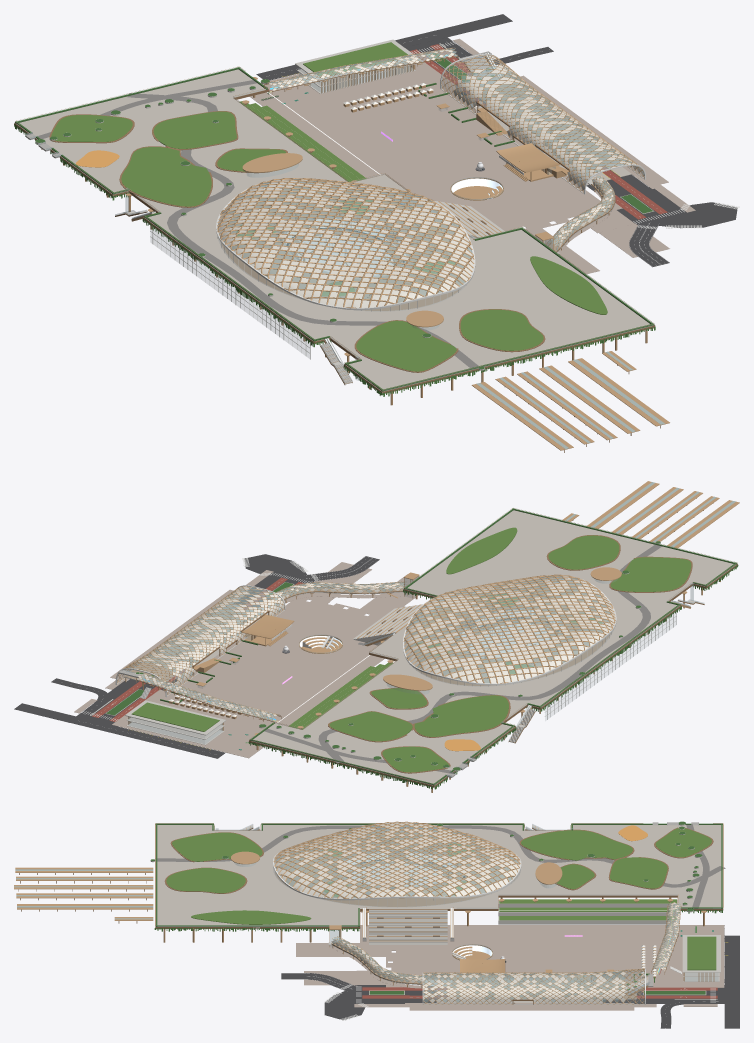
File: proposal.glb
3 views of the same model, one above another, from view 1: azimuth 30°, elevation 25°; view 2: azimuth 150°, elevation 25°; view 3: azimuth 270°, elevation 25° (orthographic). The views are drawn at different scales.
Visible parts, largest first — view 1: PR_Deck_Slab, PR_Plaza_Paving, PR_Canopy_Glass, PR_Canopy_Ribs, PR_Lawns, PR_BT_RoofPanels, PR_Side_PlatformCanopies, PR_BT_RoofRibs, PR_Deck_SlabExt, PR_Path_Promenade, PR_Hall_Floor, PR_Side_GreenTrough (+29 smaller); view 2: PR_Deck_Slab, PR_Plaza_Paving, PR_Canopy_Glass, PR_Canopy_Ribs, PR_Lawns, PR_BT_RoofPanels, PR_BT_RoofRibs, PR_Side_PlatformCanopies, PR_Deck_SlabExt, PR_Path_Promenade, PR_Hall_Floor, PR_Side_GreenTrough (+27 smaller); view 3: PR_Deck_Slab, PR_Plaza_Paving, PR_Canopy_Glass, PR_Canopy_Ribs, PR_Lawns, PR_BT_RoofPanels, PR_Side_PlatformCanopies, PR_BT_RoofRibs, PR_Hall_Floor, PR_GrandSteps, PR_Deck_SlabExt, PR_Path_Promenade (+38 smaller).
Boxes of the visible parts, x1=… form: PR_Deck_Slab: x1=16, y1=69, x2=605, y2=392; PR_Plaza_Paving: x1=250, y1=49, x2=622, y2=274; PR_Canopy_Glass: x1=217, y1=179, x2=473, y2=307; PR_Canopy_Ribs: x1=217, y1=178, x2=474, y2=308; PR_Lawns: x1=51, y1=111, x2=543, y2=371; PR_BT_RoofPanels: x1=441, y1=55, x2=644, y2=190; PR_Side_PlatformCanopies: x1=471, y1=351, x2=669, y2=450; PR_BT_RoofRibs: x1=441, y1=54, x2=644, y2=192; PR_Deck_SlabExt: x1=474, y1=229, x2=652, y2=337; PR_Path_Promenade: x1=35, y1=80, x2=478, y2=369; PR_Hall_Floor: x1=220, y1=186, x2=470, y2=310; PR_Side_GreenTrough: x1=15, y1=67, x2=654, y2=391; PR_Deck_Slab: x1=252, y1=519, x2=735, y2=786; PR_Plaza_Paving: x1=112, y1=574, x2=418, y2=758; PR_Canopy_Glass: x1=404, y1=575, x2=615, y2=683; PR_Canopy_Ribs: x1=403, y1=574, x2=615, y2=683; PR_Lawns: x1=329, y1=535, x2=691, y2=772; PR_BT_RoofPanels: x1=117, y1=586, x2=284, y2=693; PR_BT_RoofRibs: x1=117, y1=586, x2=284, y2=695; PR_Side_PlatformCanopies: x1=562, y1=481, x2=739, y2=548; PR_Deck_SlabExt: x1=405, y1=510, x2=551, y2=596; PR_Path_Promenade: x1=264, y1=544, x2=661, y2=773; PR_Hall_Floor: x1=405, y1=582, x2=610, y2=685; PR_Side_GreenTrough: x1=249, y1=508, x2=737, y2=785; PR_Deck_Slab: x1=155, y1=825, x2=722, y2=908; PR_Plaza_Paving: x1=296, y1=925, x2=724, y2=987; PR_Canopy_Glass: x1=274, y1=822, x2=519, y2=898; PR_Canopy_Ribs: x1=273, y1=821, x2=520, y2=898; PR_Lawns: x1=166, y1=828, x2=711, y2=893; PR_BT_RoofPanels: x1=423, y1=969, x2=644, y2=1003; PR_Side_PlatformCanopies: x1=14, y1=867, x2=153, y2=920; PR_BT_RoofRibs: x1=423, y1=969, x2=644, y2=1004; PR_Hall_Floor: x1=275, y1=832, x2=517, y2=906; PR_GrandSteps: x1=369, y1=909, x2=447, y2=944; PR_Deck_SlabExt: x1=155, y1=908, x2=359, y2=926; PR_Path_Promenade: x1=155, y1=824, x2=725, y2=908.
Size of the model in its own units: 400 by 37.71 by 646.
